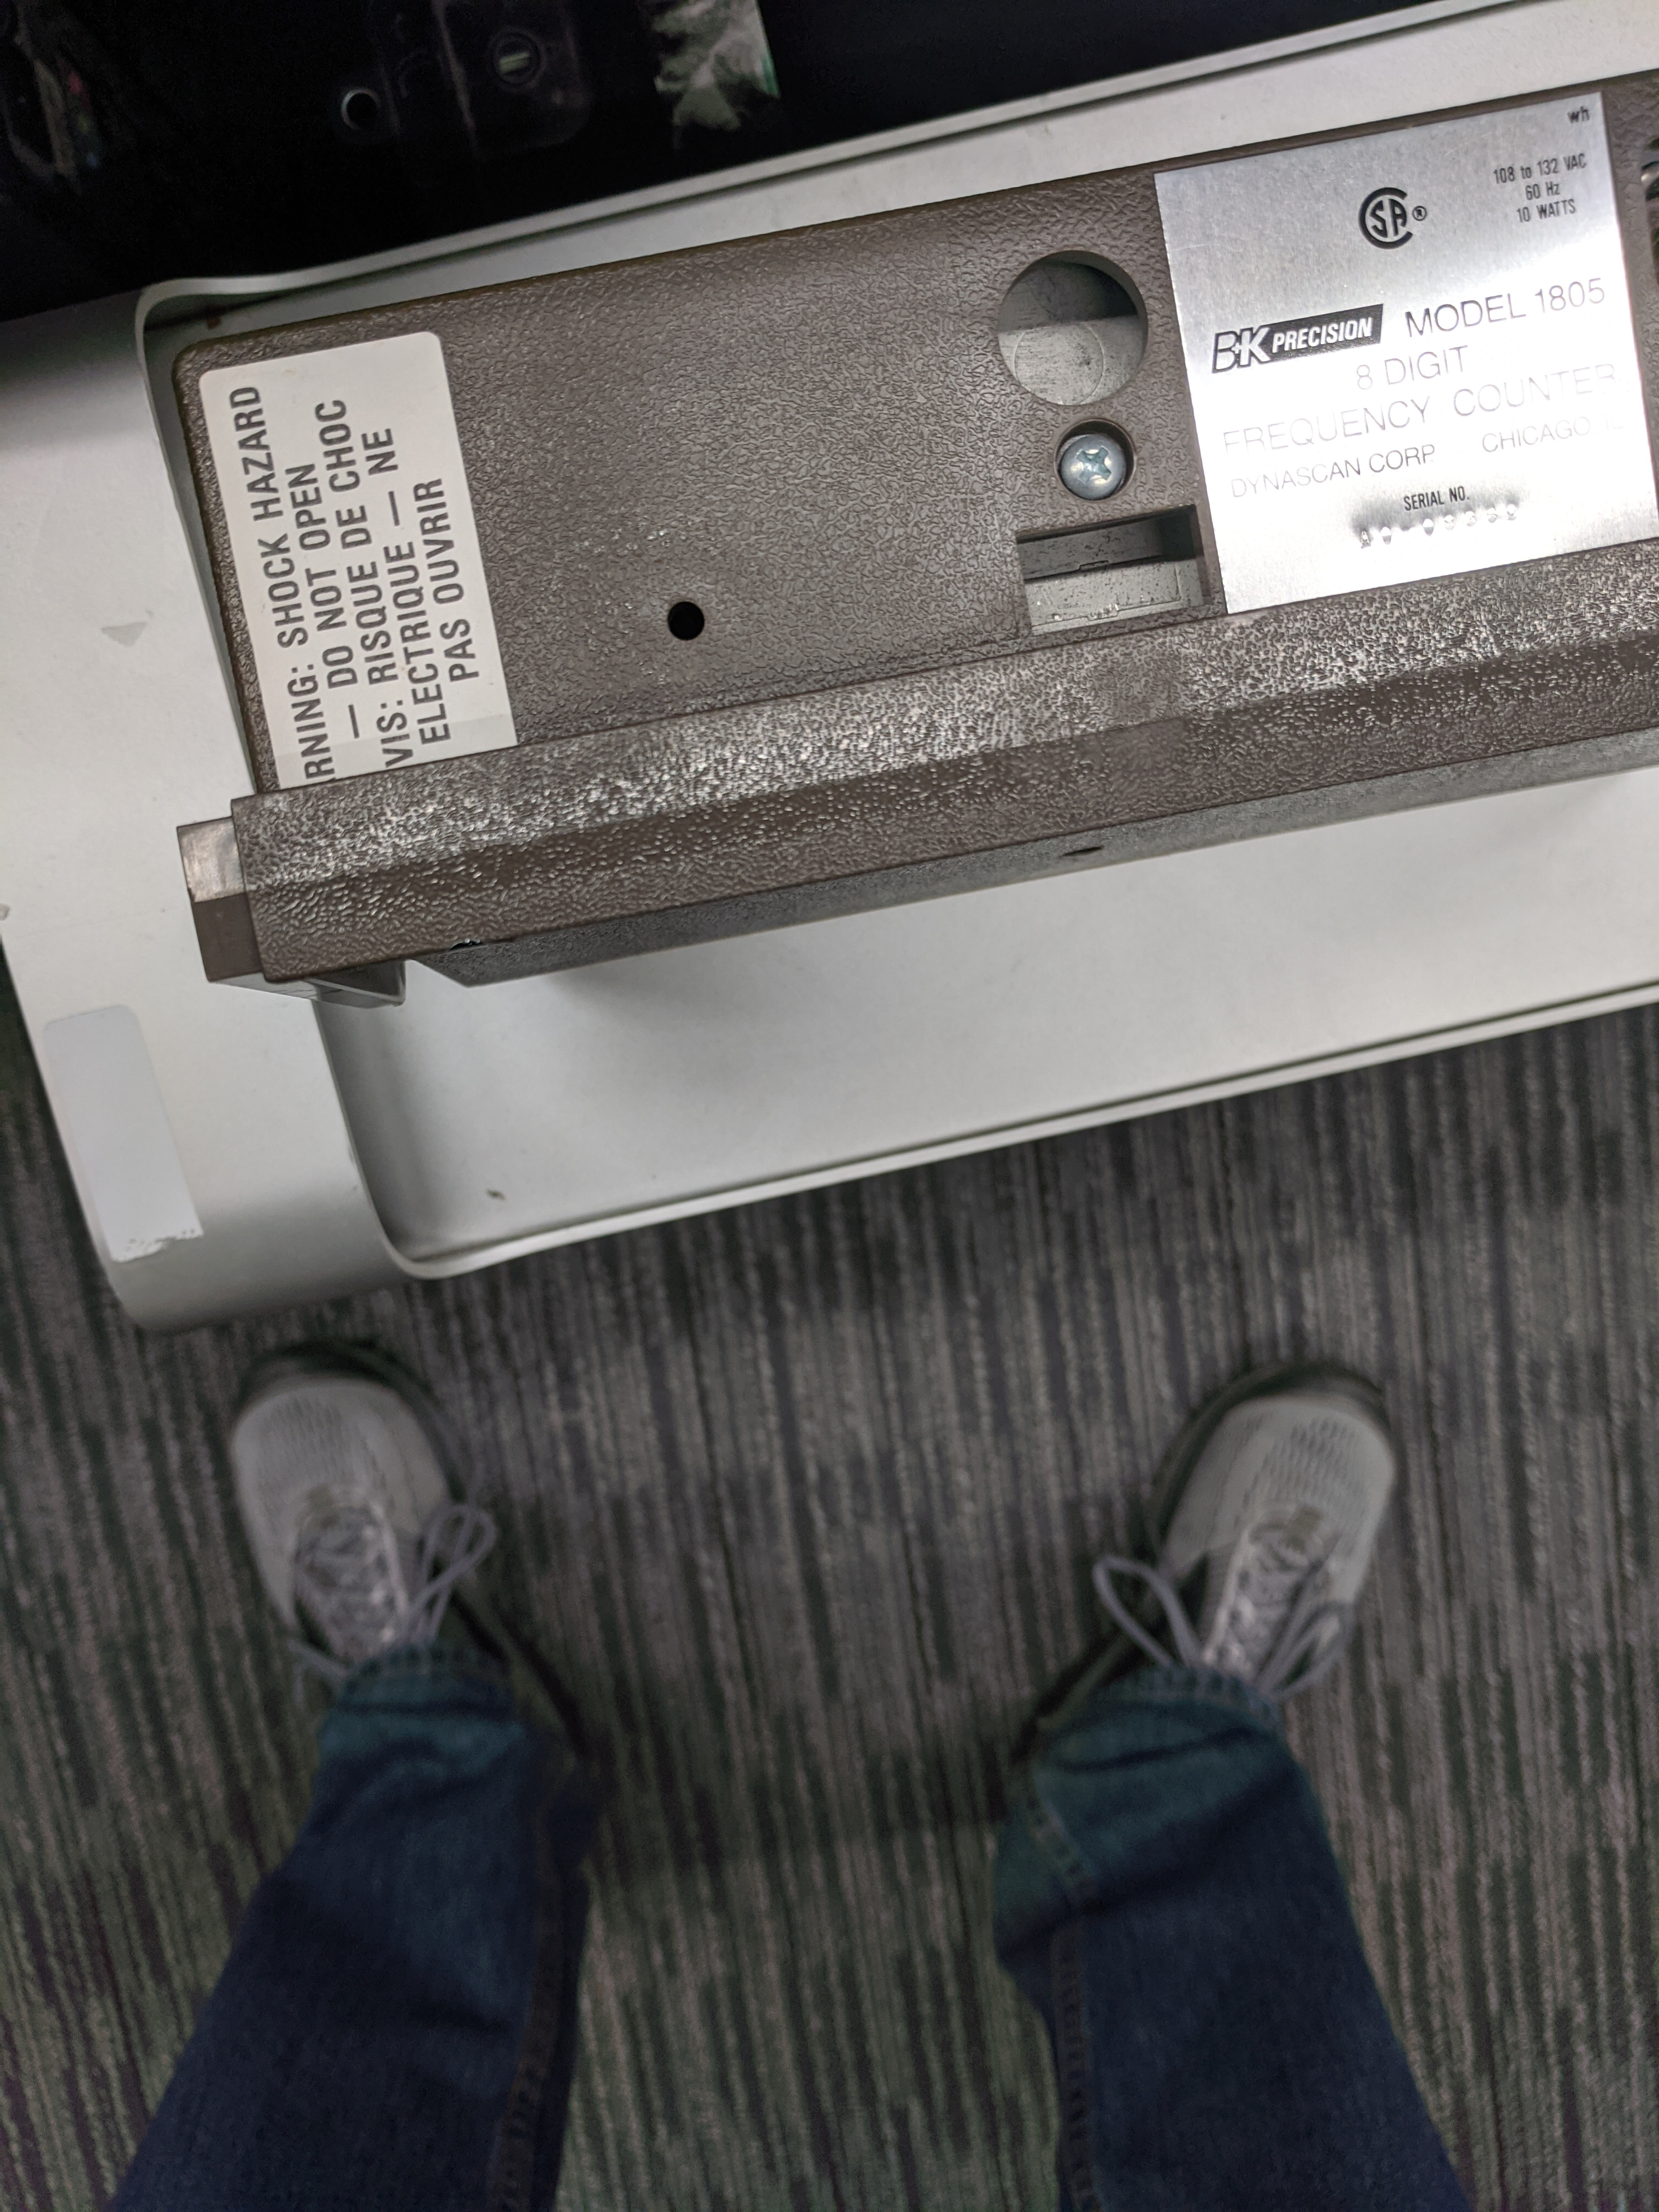cross_recessed_screw: (1049, 421, 1131, 495)
